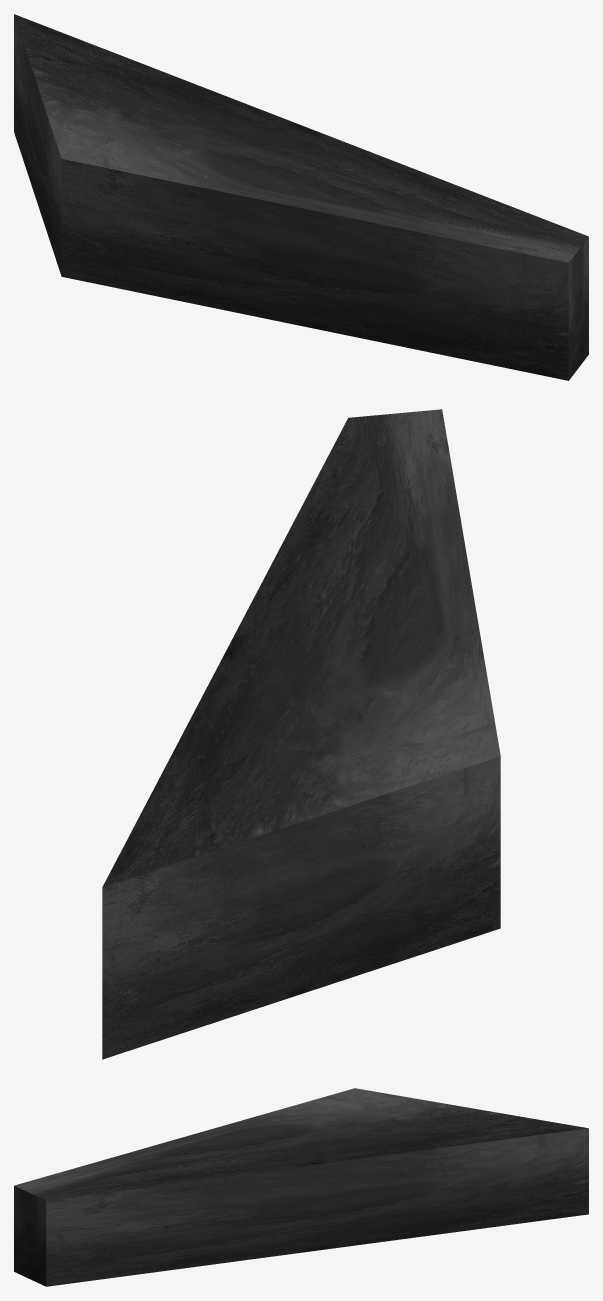
File: noir1.FBX
3 renders of one model, top to bottom at view 1: azimuth 30°, elevation 25°; view 2: azimuth 150°, elevation 25°; view 3: azimuth 270°, elevation 25°, orthographic. The views are drawn at different scales.
Parts seen in each view (by area): view 1: Ligne015; view 2: Ligne015; view 3: Ligne015.
Part boxes in pixels (x1,y1,x2,y2): Ligne015: (14,14,588,380); Ligne015: (102,409,500,1059); Ligne015: (14,1088,588,1286).
Size of the model in its own units: 7.01 by 2.5 by 15.13.
1 material, 1 textured.
